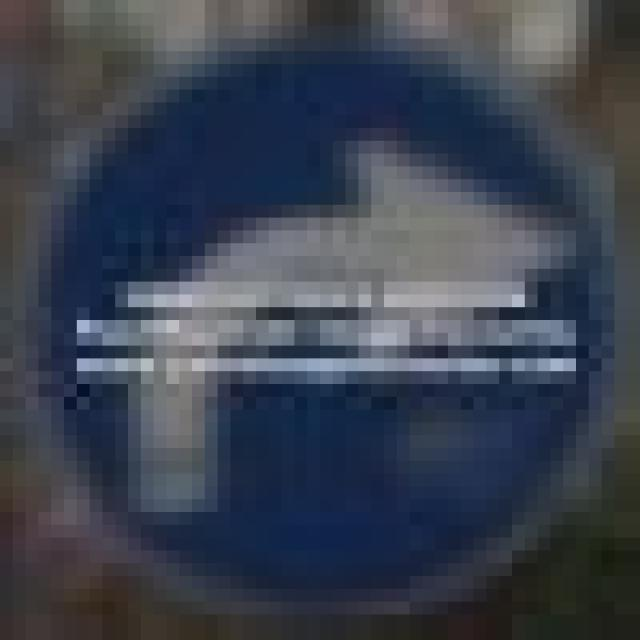railway_crossing: (26, 26, 588, 563)
